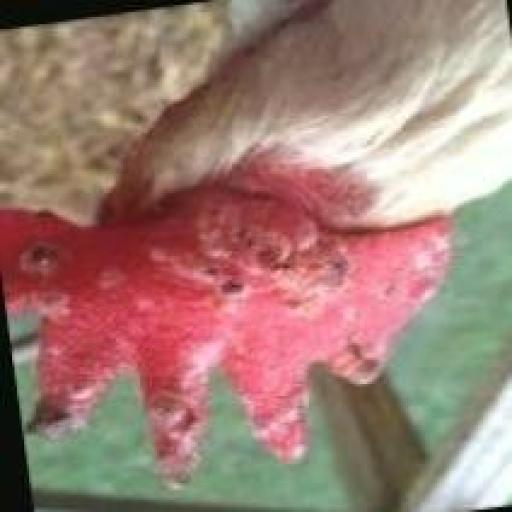disease: (190, 199, 378, 320), (139, 336, 218, 496), (235, 348, 312, 458), (15, 228, 100, 318), (36, 334, 102, 440), (312, 319, 383, 383), (396, 228, 447, 304)
